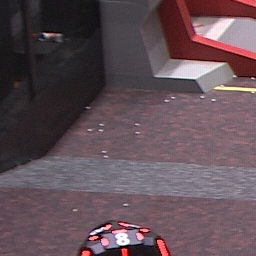Red: (101, 229, 144, 246)
